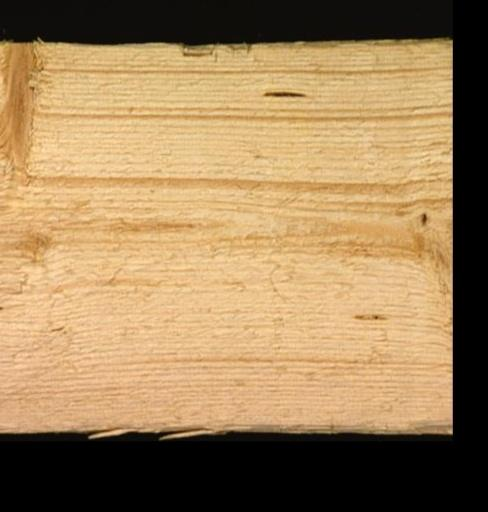small_knot: (411, 202, 439, 233)
